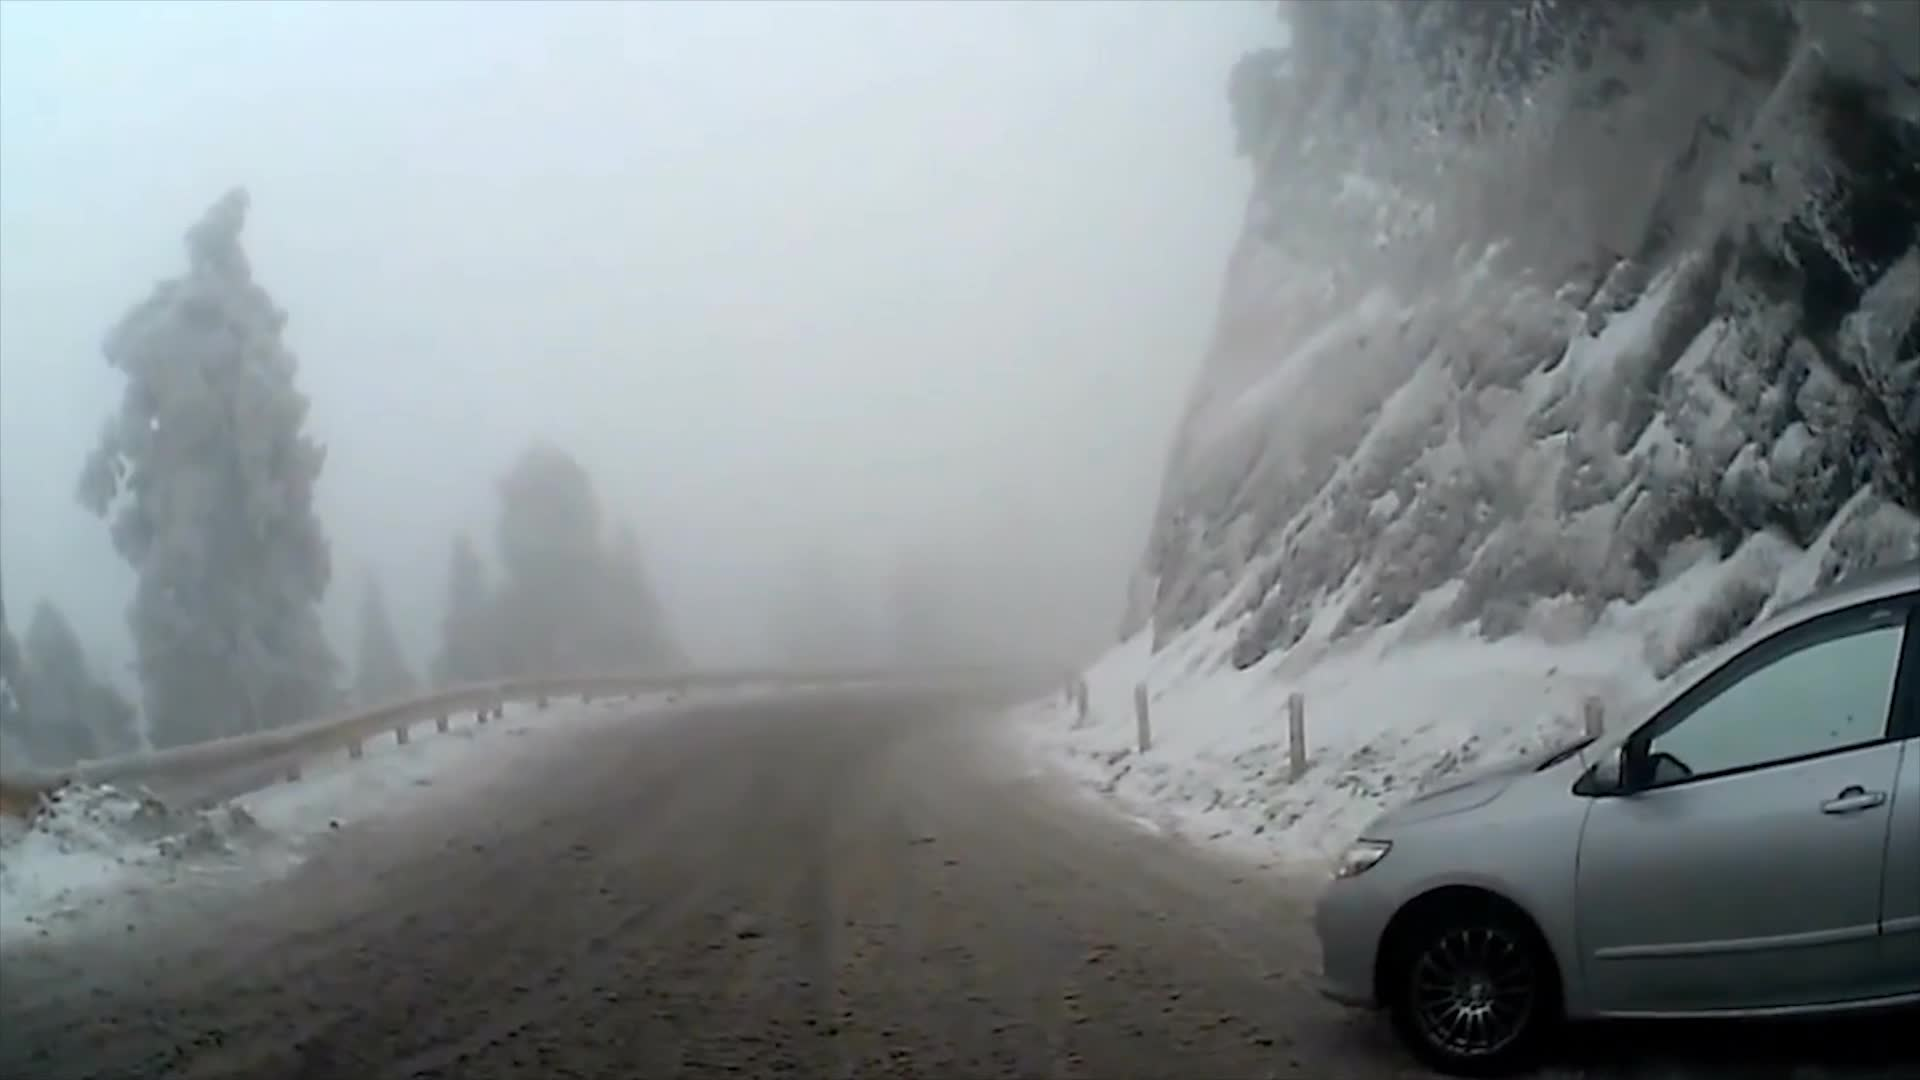vehicle: (1311, 555, 1920, 1075)
